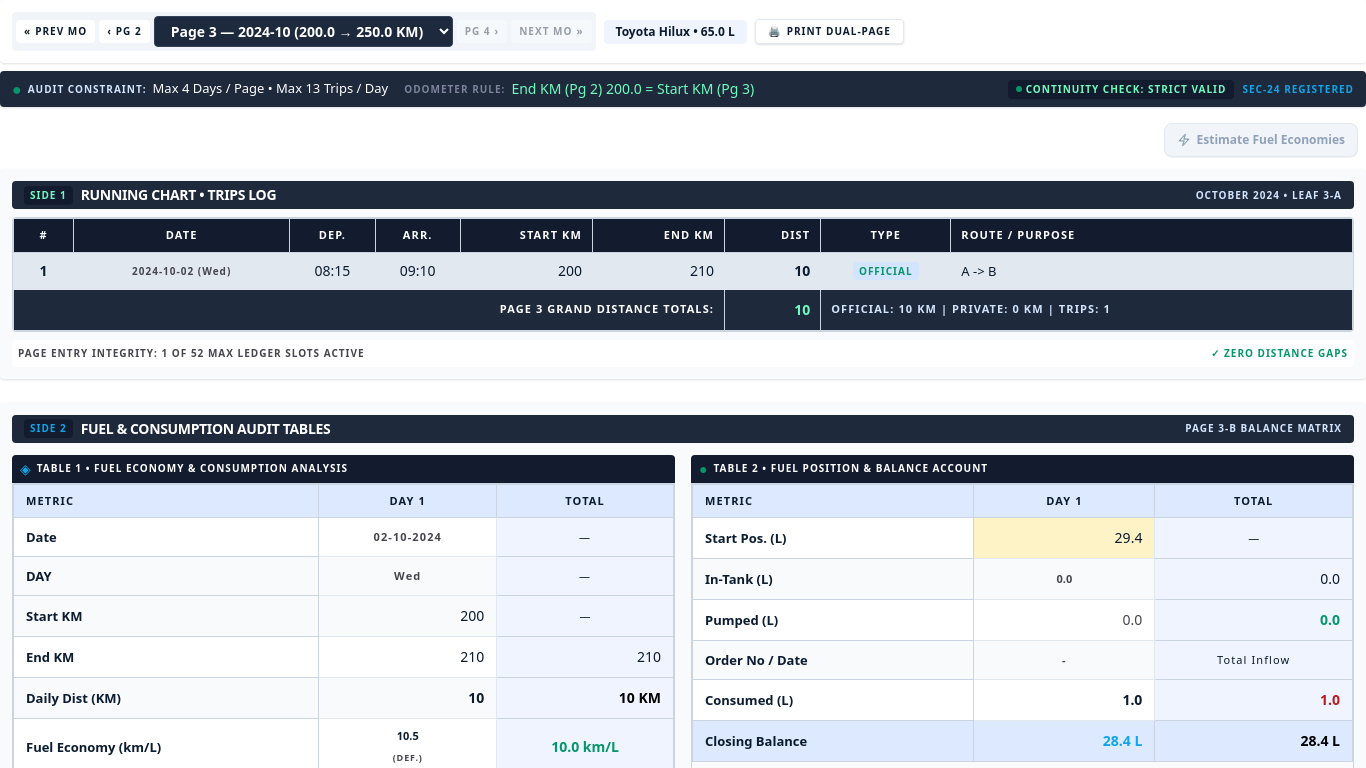
Test: BookLedgerView - Full-Width Stack Ledger (Phase 3 #03) › allows month navigation (Prev MO / Next MO)
Expected: the dropdown named "Select Page" shows "Page 3 — 2024-10 (200.0 → 250.0 KM)", [154,16,453,47]
What coordinates should you click on to do the following:
click the button with aria-label "Previous Month"
I would click on:
 (56, 32)
Its box is [16,20,95,43].
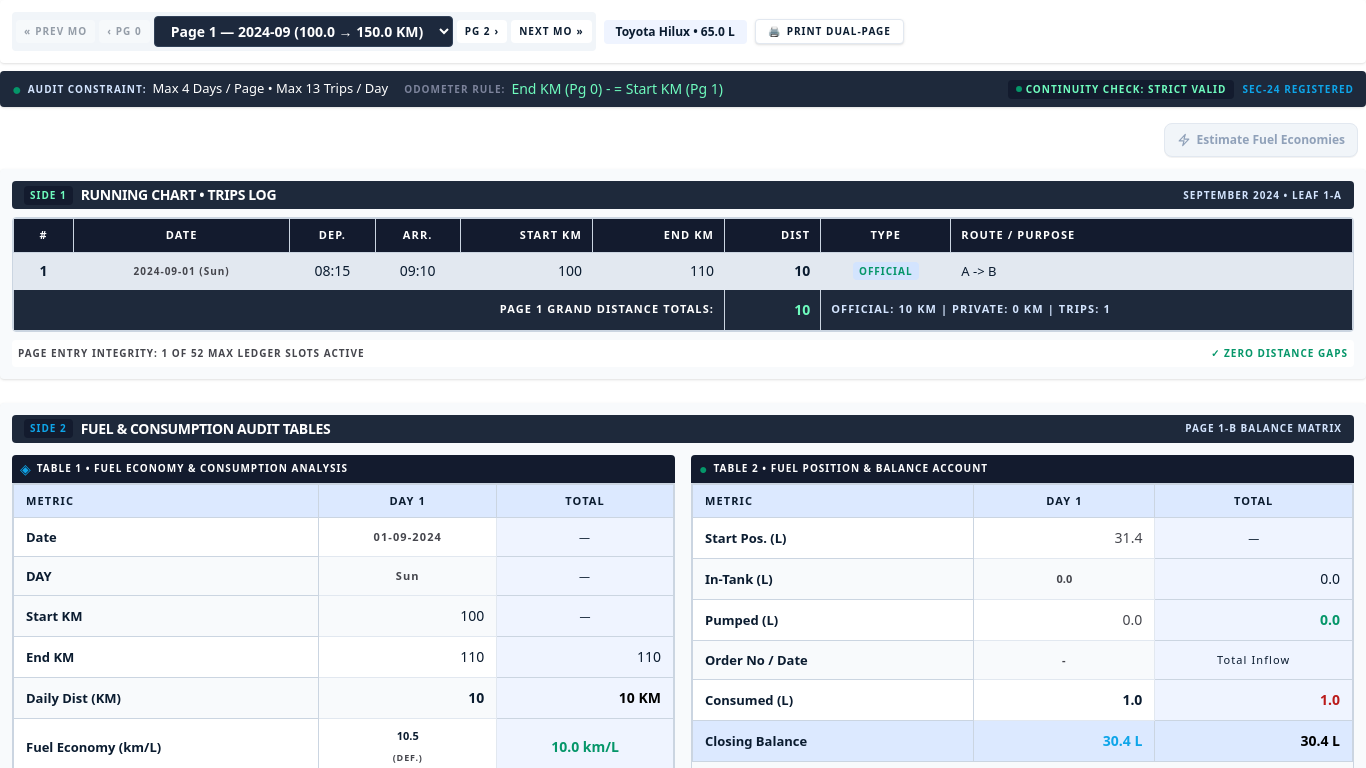
Expected: the dropdown named "Select Page" shows "Page 1 — 2024-09 (100.0 → 150.0 KM)", [154,16,453,47]
